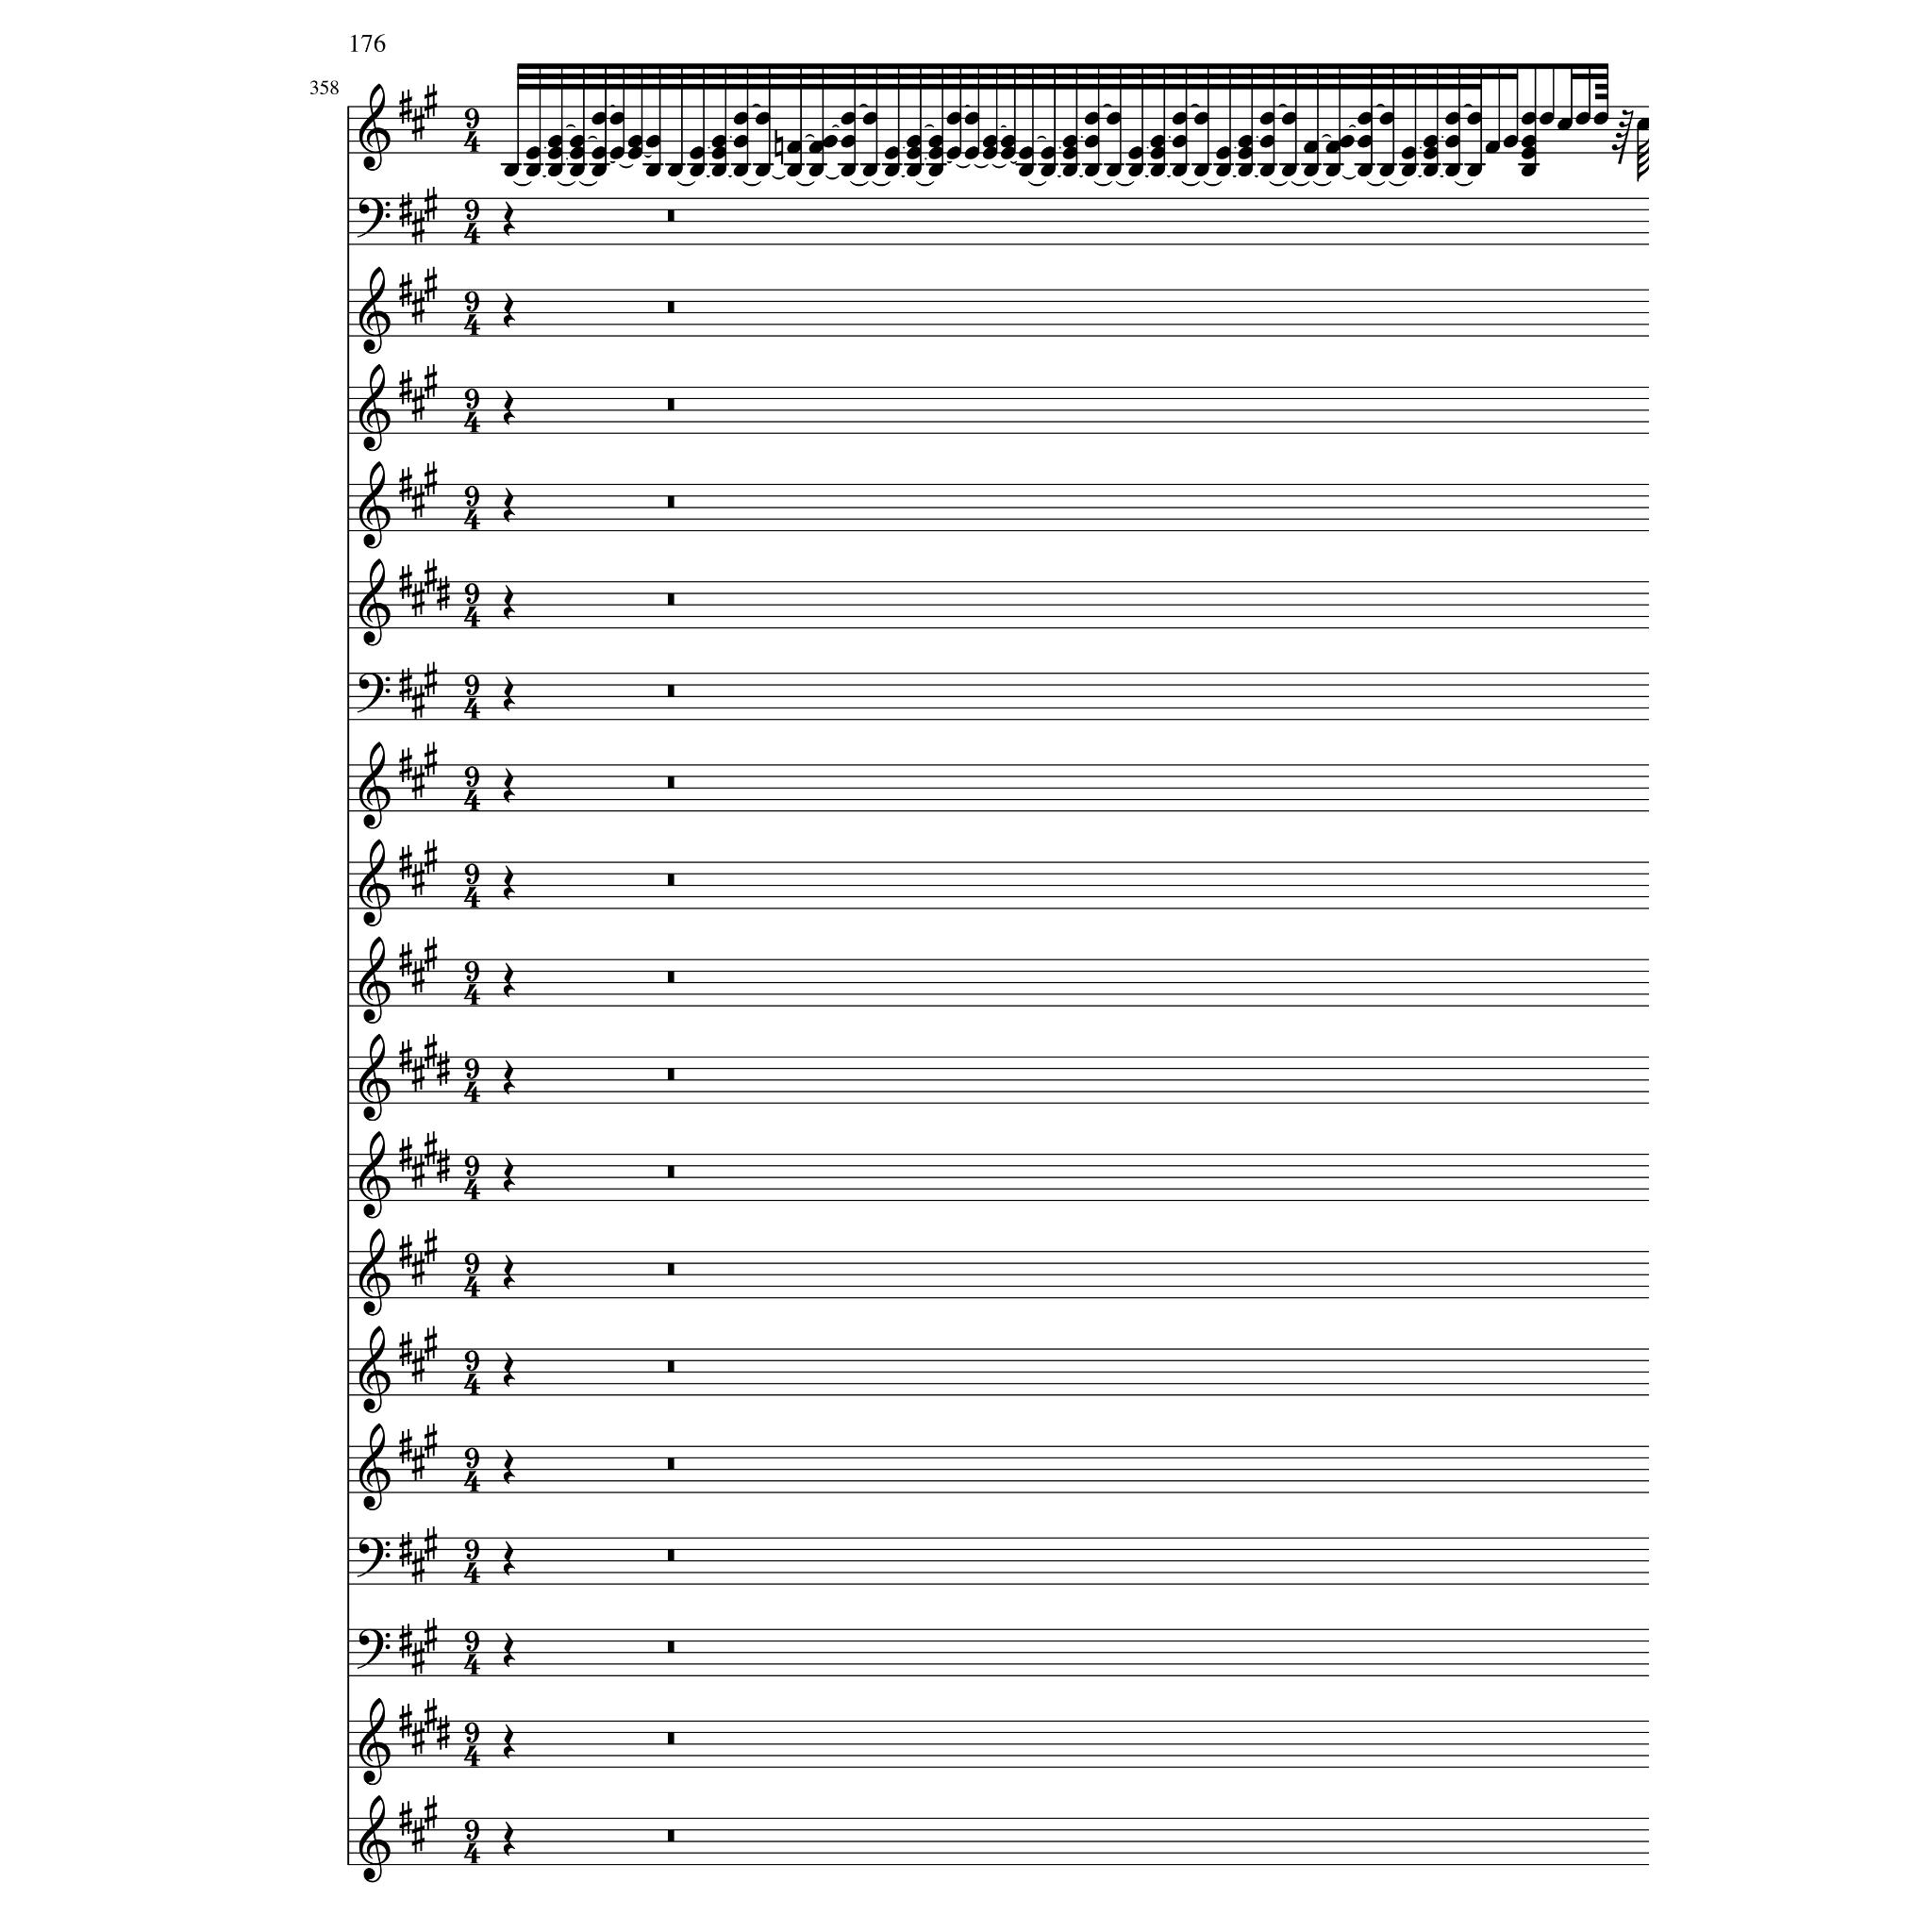fClef: (357, 1628, 391, 1670), (357, 198, 391, 238), (357, 1538, 391, 1577), (357, 674, 391, 713)
gClef: (358, 1795, 391, 1884), (358, 83, 391, 172), (358, 1325, 391, 1414), (358, 1228, 391, 1317), (358, 1131, 391, 1220), (358, 1033, 391, 1122), (358, 1697, 391, 1786), (358, 1423, 391, 1511), (358, 558, 391, 647), (358, 461, 391, 550), (358, 363, 391, 452), (358, 266, 391, 355), (358, 741, 391, 830), (358, 936, 391, 1024), (358, 840, 391, 926)
noteheadBlack: (1557, 117, 1572, 132), (1466, 112, 1483, 125), (1466, 164, 1483, 177), (1502, 135, 1519, 148), (1400, 164, 1417, 177), (1400, 147, 1417, 160), (1423, 164, 1440, 177), (1423, 147, 1440, 160), (1423, 135, 1440, 148), (1592, 112, 1609, 125), (1106, 112, 1123, 125), (1106, 164, 1123, 177), (1083, 112, 1100, 125), (1083, 135, 1100, 148), (1083, 164, 1100, 177), (1149, 164, 1166, 177), (1149, 147, 1166, 160), (1149, 135, 1166, 148), (1040, 164, 1057, 177), (1040, 147, 1057, 160), (1324, 164, 1341, 177), (1324, 141, 1341, 154), (1357, 164, 1374, 177), (1357, 135, 1374, 148), (1357, 112, 1374, 125), (1215, 147, 1232, 160), (1215, 164, 1232, 177), (1192, 112, 1209, 125), (1192, 164, 1209, 177), (1258, 164, 1275, 177), (1258, 135, 1275, 148), (1258, 112, 1275, 125), (525, 147, 541, 160), (525, 164, 541, 177), (591, 112, 608, 125), (591, 164, 608, 177), (568, 135, 585, 148), (568, 147, 585, 160), (568, 164, 585, 177), (591, 147, 608, 160), (732, 164, 749, 177), (732, 135, 749, 148), (732, 112, 749, 125), (808, 164, 824, 177), (689, 164, 706, 177), (689, 147, 706, 160), (945, 112, 962, 125), (906, 135, 923, 148), (945, 147, 962, 160), (906, 147, 923, 160), (981, 147, 998, 160), (981, 135, 998, 148), (808, 141, 824, 154), (840, 164, 857, 177), (840, 135, 857, 148), (840, 112, 857, 125), (883, 164, 900, 177), (883, 147, 900, 160), (906, 164, 923, 177), (626, 147, 643, 160), (626, 135, 643, 148), (666, 164, 683, 177), (1445, 112, 1460, 125), (1485, 141, 1500, 154), (1379, 112, 1394, 125), (1521, 164, 1536, 177), (1445, 164, 1460, 177), (1445, 135, 1460, 148), (1521, 147, 1536, 160), (1521, 135, 1536, 148), (1521, 112, 1536, 125), (1540, 112, 1555, 125), (1575, 112, 1591, 125), (1128, 164, 1143, 177), (1128, 147, 1143, 160), (1172, 164, 1187, 177), (1172, 135, 1187, 148), (1019, 147, 1034, 160), (1019, 164, 1034, 177), (1000, 135, 1015, 148), (1000, 147, 1015, 160), (1172, 112, 1187, 125), (1062, 164, 1077, 177), (1062, 147, 1077, 160), (1062, 135, 1077, 148), (1304, 141, 1319, 154), (1304, 164, 1319, 177), (1281, 112, 1296, 125), (1281, 164, 1296, 177), (1340, 135, 1355, 148), (1379, 164, 1394, 177), (1238, 164, 1253, 177), (1238, 147, 1253, 160), (1238, 135, 1253, 148), (504, 164, 519, 177), (547, 135, 562, 148), (547, 147, 562, 160), (547, 164, 562, 177), (755, 164, 770, 177), (711, 147, 726, 160), (711, 135, 726, 148), (711, 164, 726, 177), (755, 112, 770, 125), (787, 164, 802, 177), (787, 141, 802, 154), (928, 164, 943, 177), (928, 147, 943, 160), (928, 135, 943, 148), (964, 147, 979, 160), (964, 112, 979, 125), (862, 164, 877, 177), (823, 135, 838, 148), (862, 112, 877, 125), (609, 147, 625, 160), (609, 112, 625, 125), (645, 164, 660, 177), (645, 135, 660, 148)
restDoubleWhole: (667, 874, 675, 887), (667, 1068, 675, 1081), (667, 1360, 675, 1374), (667, 1549, 675, 1562), (667, 1732, 675, 1745), (667, 209, 675, 223), (667, 398, 675, 411), (667, 685, 675, 696), (667, 777, 675, 789), (667, 972, 675, 983), (667, 1166, 675, 1177), (667, 1264, 675, 1275), (667, 1458, 675, 1470), (667, 1641, 675, 1653), (667, 1830, 675, 1841), (667, 594, 675, 606), (667, 302, 675, 313), (667, 496, 675, 508)
restQuarter: (504, 768, 515, 804), (504, 676, 515, 712), (504, 585, 515, 621), (504, 488, 515, 524), (504, 390, 515, 425), (504, 292, 515, 328), (504, 201, 515, 237), (504, 1632, 515, 1668), (504, 1821, 515, 1857), (504, 1724, 515, 1759), (504, 1541, 515, 1576), (504, 1449, 515, 1485), (504, 1352, 515, 1388), (504, 1255, 515, 1291), (504, 1158, 515, 1193), (504, 1059, 515, 1095), (504, 962, 515, 998), (504, 866, 515, 900)
